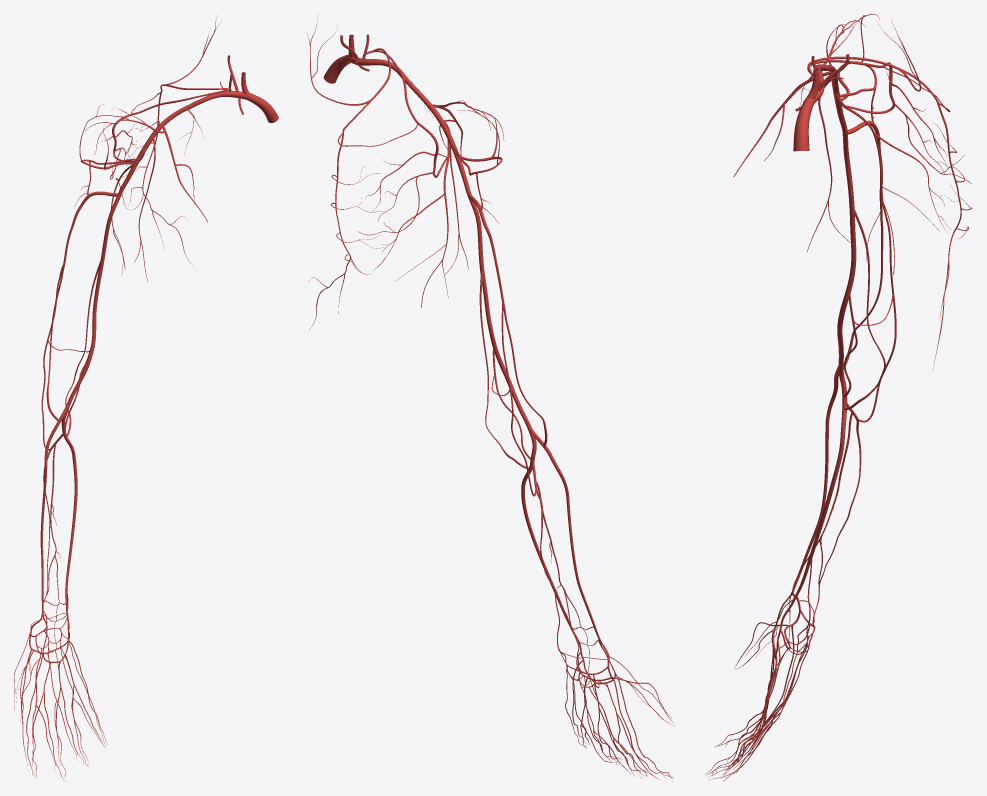
The model's file is aligned-upper-limb-arterial-01.glb.
3 views of the same model, side by side, from view 1: azimuth 30°, elevation 25°; view 2: azimuth 150°, elevation 25°; view 3: azimuth 270°, elevation 25° (orthographic). The views are drawn at different scales.
Parts seen in each view (by area): view 1: O3D_5d9ace4a456dd2, O3D_6b79d8c0ca31bd, O3D_fe2d153bd8b285, O3D_3ed6abcd872726, O3D_7ed1e7d2a0dd28, O3D_842709744dc607, O3D_f029377384ef1e; view 2: O3D_5d9ace4a456dd2, O3D_3ed6abcd872726, O3D_f029377384ef1e, O3D_fe2d153bd8b285, O3D_7ed1e7d2a0dd28, O3D_fc0f03af5836f4, O3D_6b79d8c0ca31bd; view 3: O3D_5d9ace4a456dd2, O3D_fe2d153bd8b285, O3D_f029377384ef1e, O3D_3ed6abcd872726, O3D_fc0f03af5836f4, O3D_7c6c5231a785bb, O3D_6b79d8c0ca31bd, O3D_71e4c26108dd09, O3D_6b473be9e90563, O3D_842709744dc607.
Part boxes in pixels (bbox=[...]): O3D_5d9ace4a456dd2: bbox=[67, 192, 121, 406]; O3D_6b79d8c0ca31bd: bbox=[27, 678, 107, 781]; O3D_fe2d153bd8b285: bbox=[61, 406, 77, 615]; O3D_3ed6abcd872726: bbox=[40, 403, 68, 619]; O3D_7ed1e7d2a0dd28: bbox=[119, 100, 199, 192]; O3D_842709744dc607: bbox=[32, 686, 105, 765]; O3D_f029377384ef1e: bbox=[119, 84, 192, 265]; O3D_5d9ace4a456dd2: bbox=[465, 189, 531, 431]; O3D_3ed6abcd872726: bbox=[531, 428, 602, 644]; O3D_f029377384ef1e: bbox=[309, 98, 387, 329]; O3D_fe2d153bd8b285: bbox=[521, 431, 577, 637]; O3D_7ed1e7d2a0dd28: bbox=[397, 69, 469, 189]; O3D_fc0f03af5836f4: bbox=[358, 141, 455, 235]; O3D_6b79d8c0ca31bd: bbox=[572, 697, 672, 778]; O3D_5d9ace4a456dd2: bbox=[837, 131, 856, 367]; O3D_fe2d153bd8b285: bbox=[786, 366, 847, 612]; O3D_f029377384ef1e: bbox=[899, 68, 972, 370]; O3D_3ed6abcd872726: bbox=[793, 365, 838, 588]; O3D_fc0f03af5836f4: bbox=[845, 68, 971, 183]; O3D_7c6c5231a785bb: bbox=[844, 105, 950, 275]; O3D_6b79d8c0ca31bd: bbox=[706, 678, 771, 777]; O3D_71e4c26108dd09: bbox=[793, 97, 814, 151]; O3D_6b473be9e90563: bbox=[788, 413, 852, 646]; O3D_842709744dc607: bbox=[708, 696, 787, 781].
Bounding box in the file's own units: 0.3506 × 0.7825 × 0.2106.
